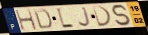D: (91, 5, 113, 28), (32, 9, 53, 30)
H: (15, 9, 39, 32)
J: (78, 6, 93, 28)
L: (55, 7, 75, 30)
S: (110, 4, 133, 27)
